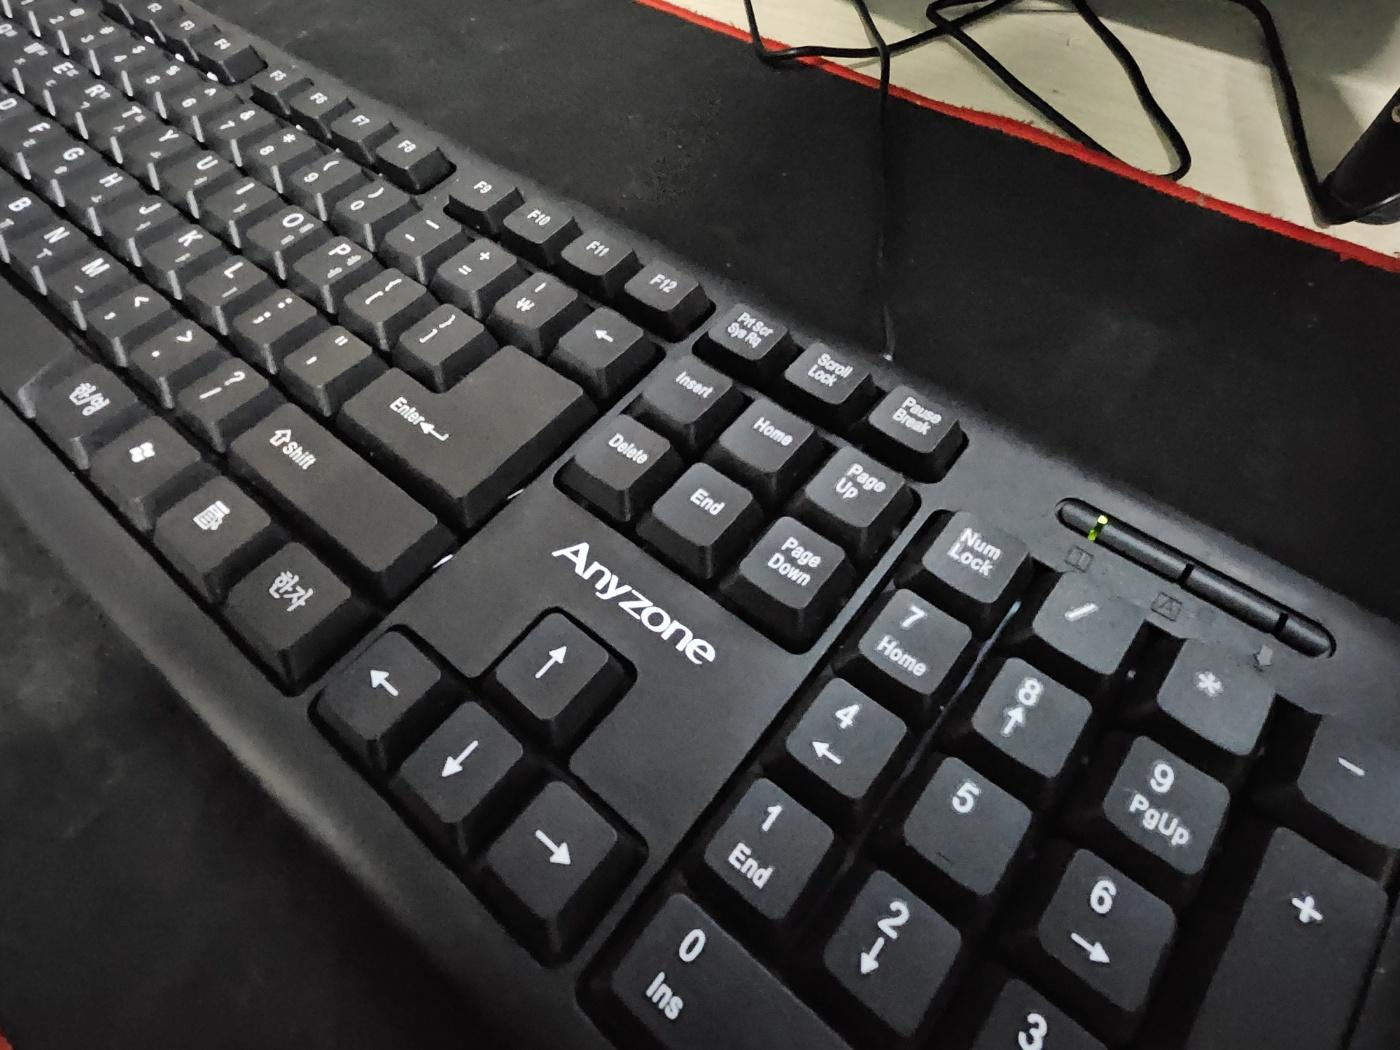keyboard: (0, 0, 1398, 1048)
